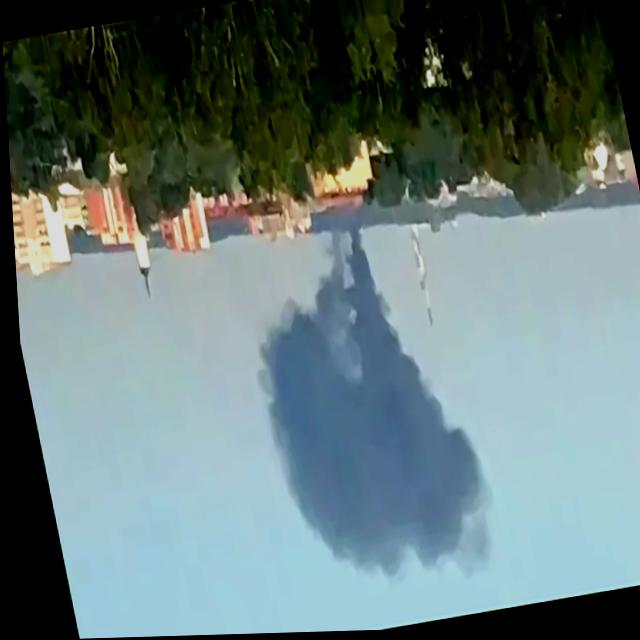Smoke: (230, 222, 488, 603)
